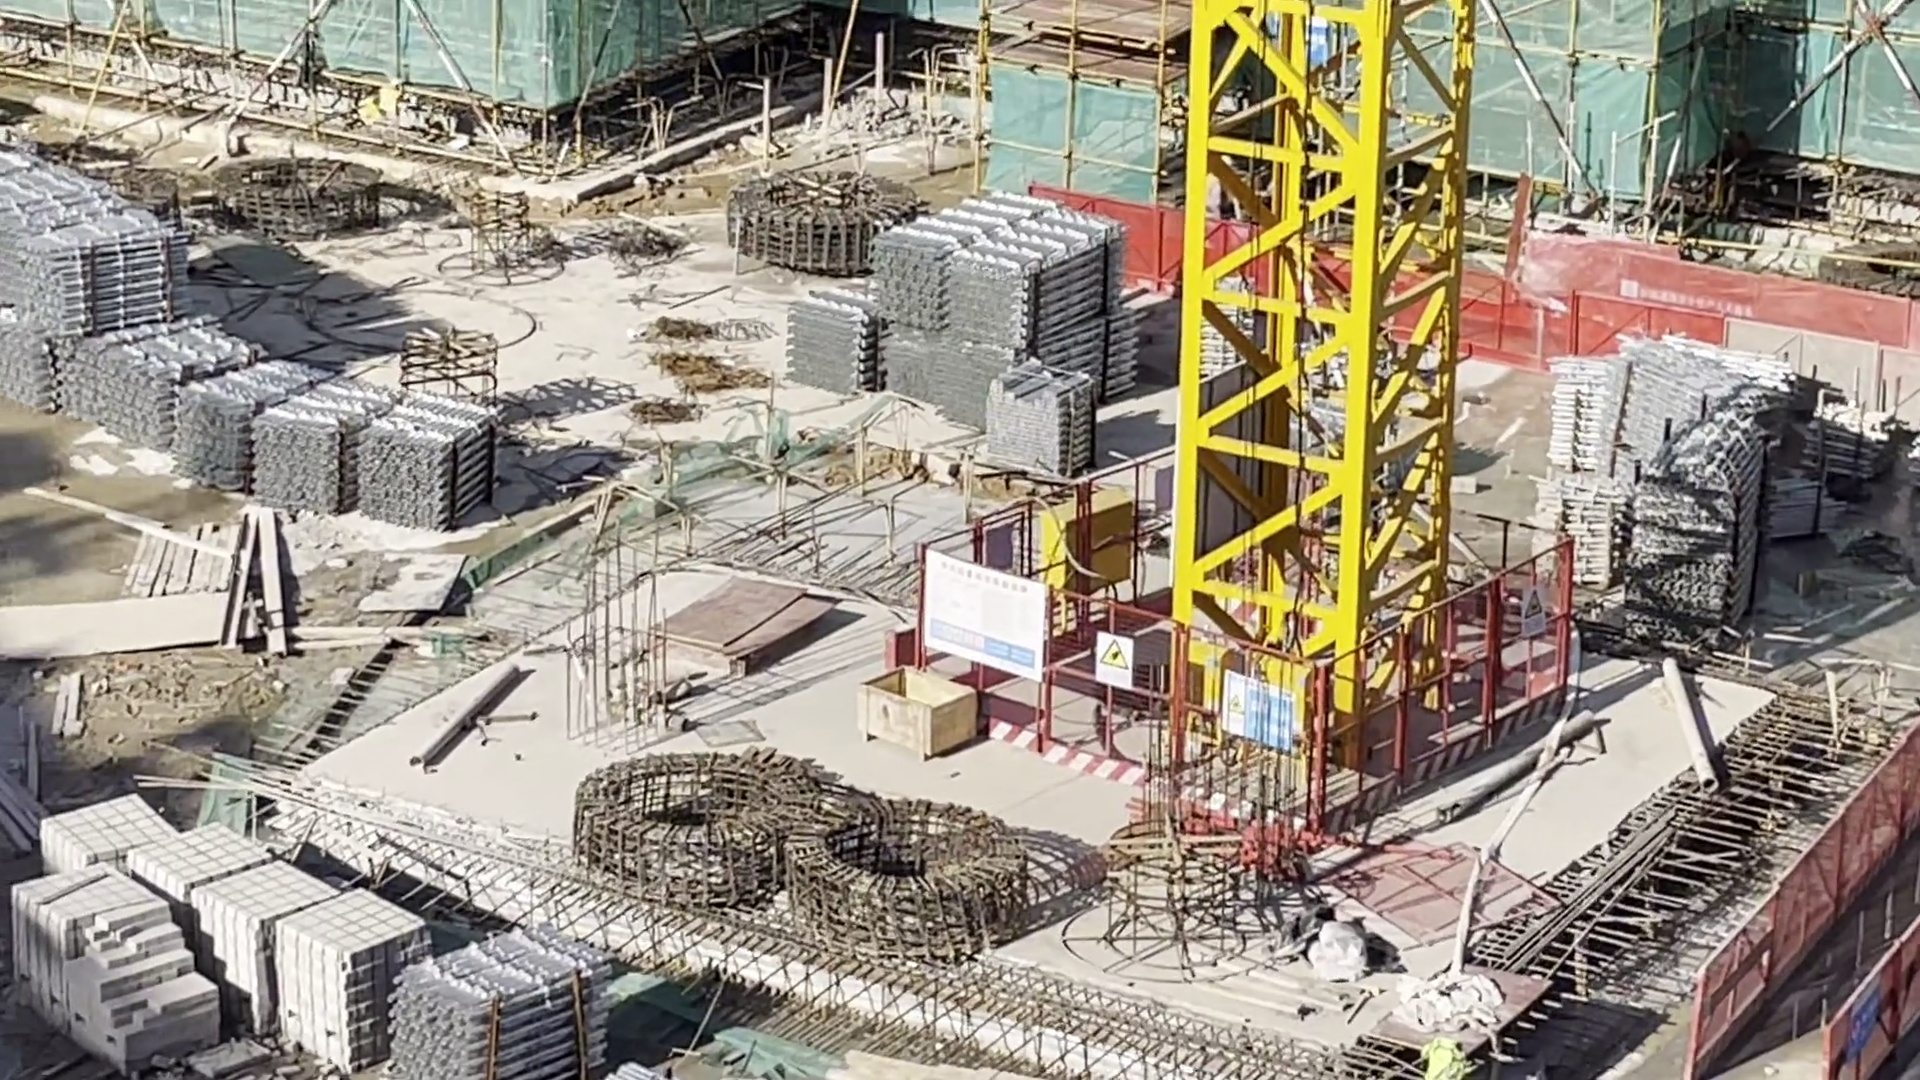board: (662, 582, 831, 665)
brick: (44, 808, 382, 1065)
ebox: (1048, 495, 1139, 622)
fence: (1706, 716, 1920, 1077), (1465, 243, 1920, 394), (1067, 193, 1193, 285)
scaffold: (877, 195, 1135, 419), (385, 931, 608, 1080), (1, 154, 131, 406), (1633, 427, 1758, 626), (1627, 330, 1789, 462), (251, 382, 398, 514), (175, 361, 328, 487), (359, 393, 495, 531), (96, 328, 248, 447), (26, 227, 196, 323), (1527, 472, 1633, 593), (982, 365, 1101, 469), (789, 276, 877, 386), (1805, 404, 1892, 483), (1549, 376, 1613, 465)
slogan: (1222, 674, 1294, 752), (1847, 986, 1880, 1054), (1096, 634, 1135, 687), (1520, 588, 1545, 636)
